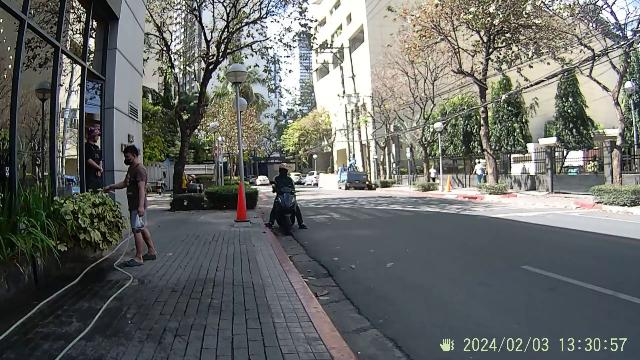construction_materials: (232, 181, 252, 225)
lamp_post: (225, 62, 252, 224), (624, 77, 638, 171), (433, 122, 445, 192)
tree: (170, 114, 202, 208)
